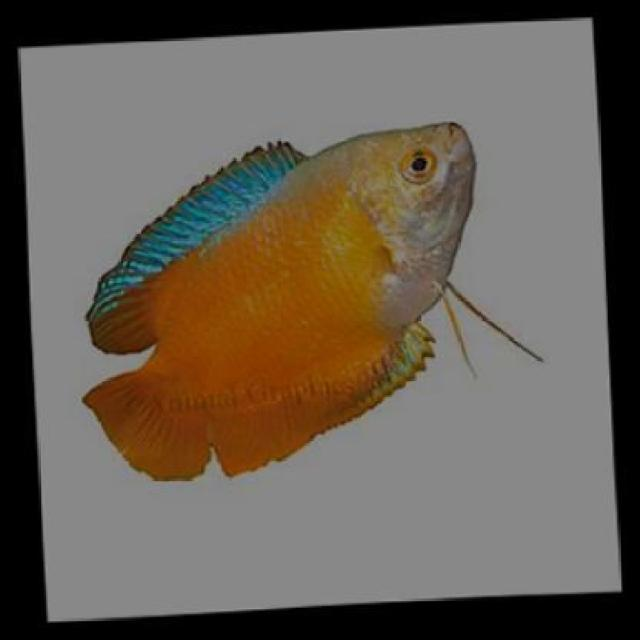Gourami: (87, 123, 482, 486)
